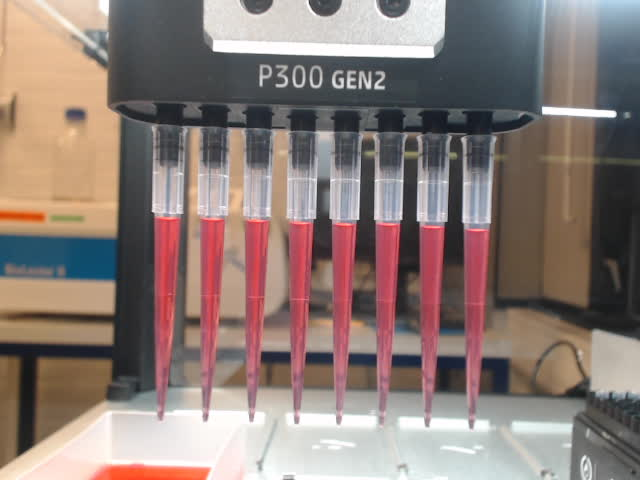Liquid: (149, 212, 183, 422), (238, 218, 272, 424), (195, 215, 228, 425), (285, 218, 318, 426), (461, 225, 494, 432), (416, 224, 449, 430), (371, 221, 402, 426), (328, 221, 357, 427)
Tip: (146, 122, 188, 423), (236, 126, 278, 424), (414, 132, 454, 433), (369, 129, 409, 426), (459, 133, 498, 432), (194, 125, 232, 426), (326, 131, 363, 427), (286, 129, 321, 426)
